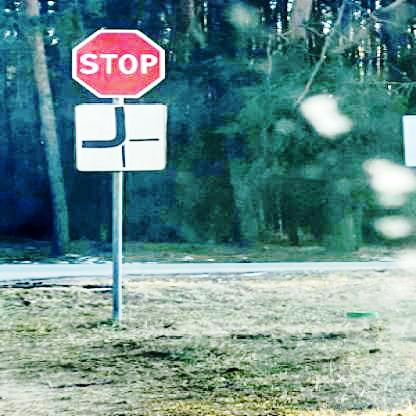Stop Sign: (68, 31, 166, 101)
